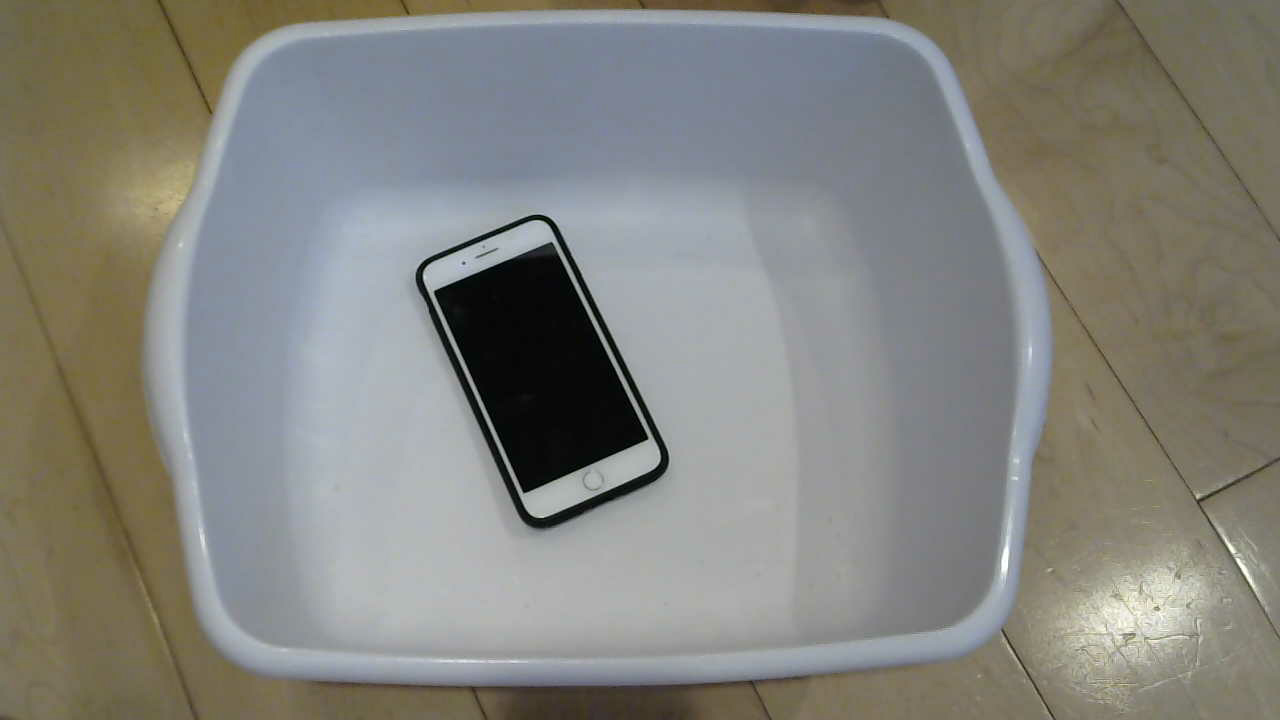phone: (388, 208, 683, 548)
